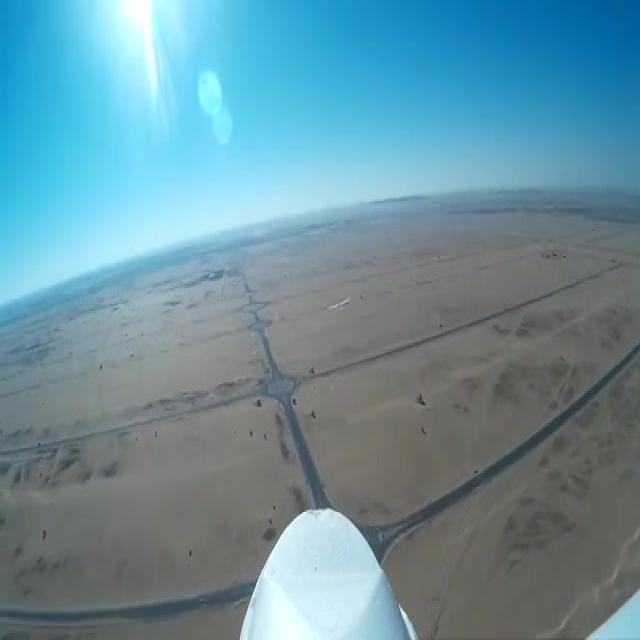iha: (327, 296, 351, 312)
